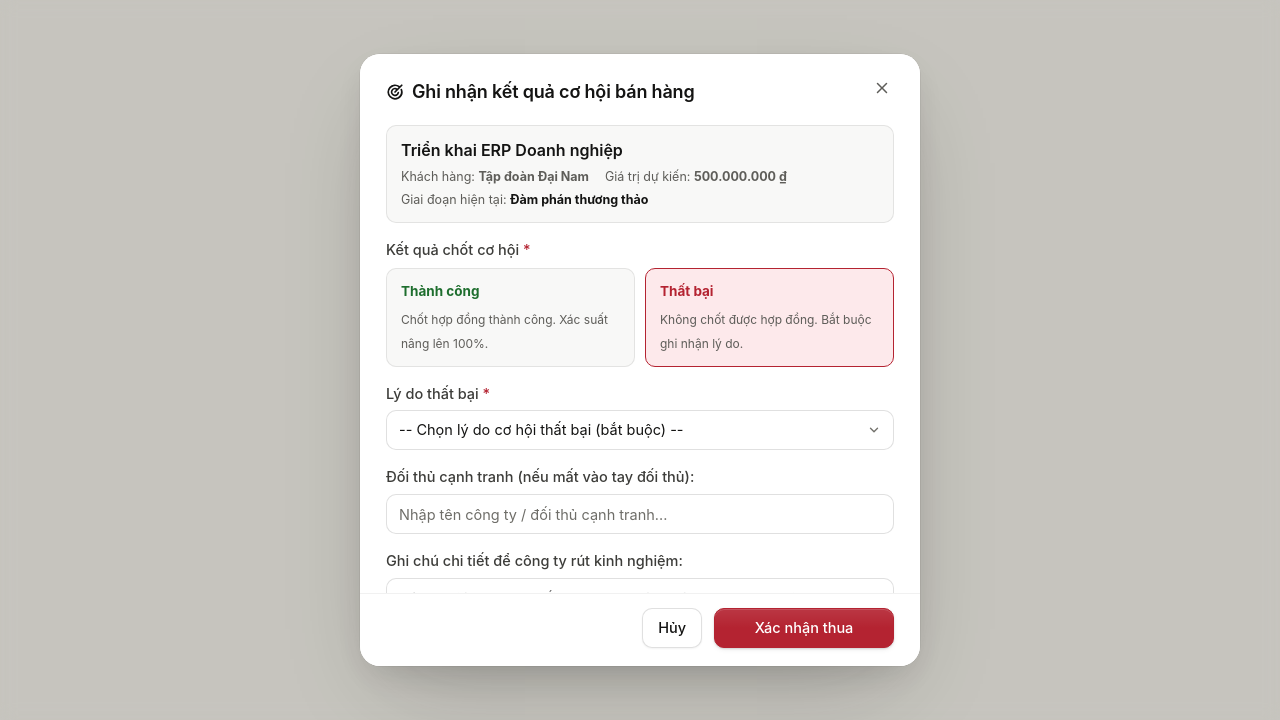
Scenario: Ghi nhận kết quả thắng thua của cơ hội (NCL-03-CN-005) › Thiếu dữ liệu và ràng buộc (TC-02) › chặn submit và báo lỗi khi chọn Thua nhưng chưa chọn lý do
Expected: the dropdown with test id "select-loss-reason" shows "-- Chọn lý do cơ hội thất bại (bắt buộc) --", [386,410,894,450]
Click the button with test id "btn-submit-close-opportunity". click: (804, 628)
box: [714,608,894,648]
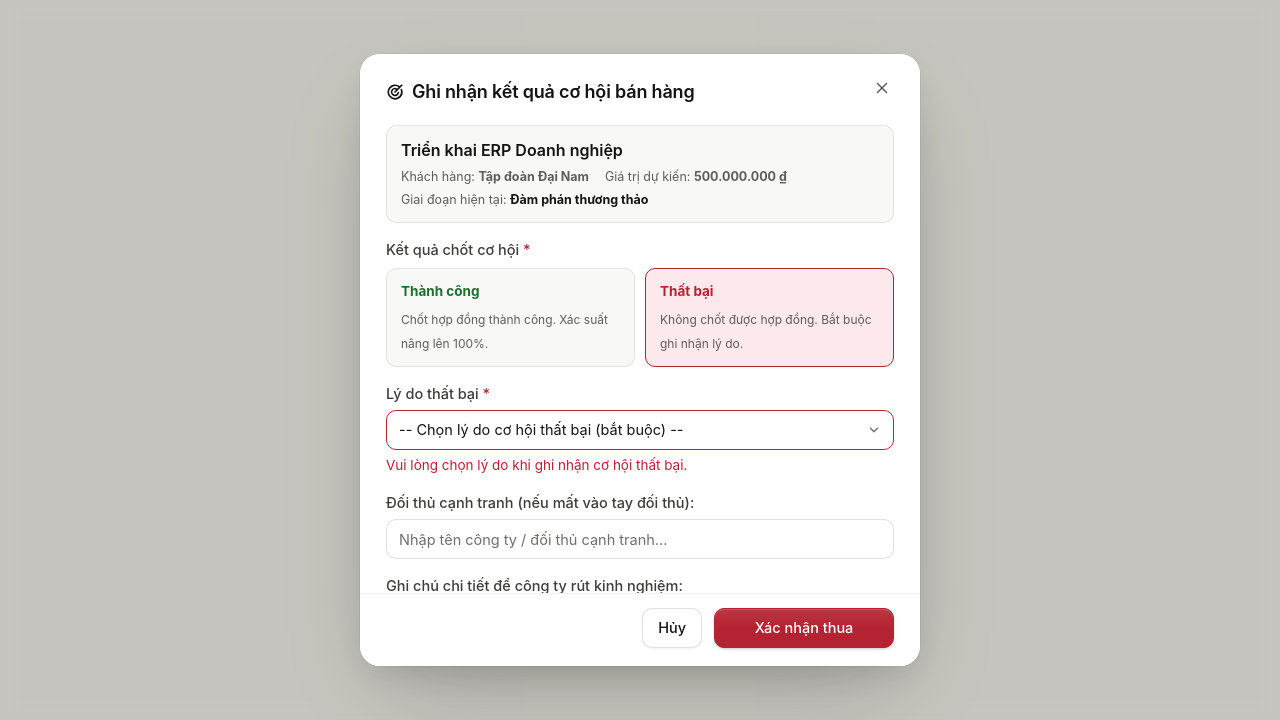
Now the text "Vui lòng chọn lý do khi ghi nhận cơ hội thất bại." is shown, box [386,457,687,473]
